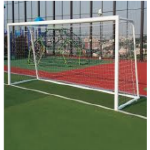goals: (7, 14, 140, 111)
